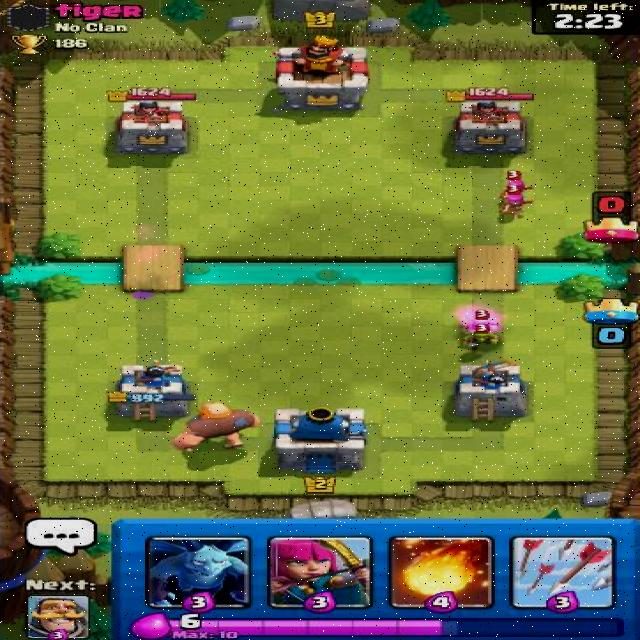Enemy-Archer: (497, 185, 537, 218), (499, 169, 539, 200)
Enemy-Goblin: (458, 323, 507, 353), (463, 309, 506, 339)
Player-Giant: (168, 401, 263, 454)
